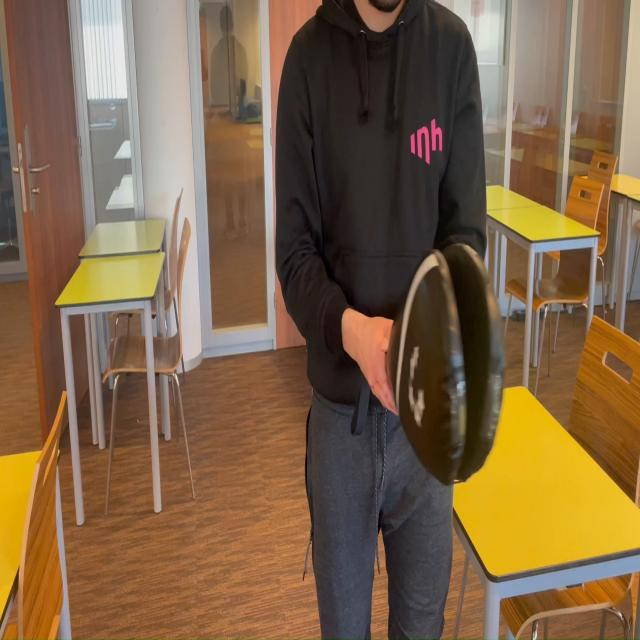paddle: (391, 249, 506, 481)
